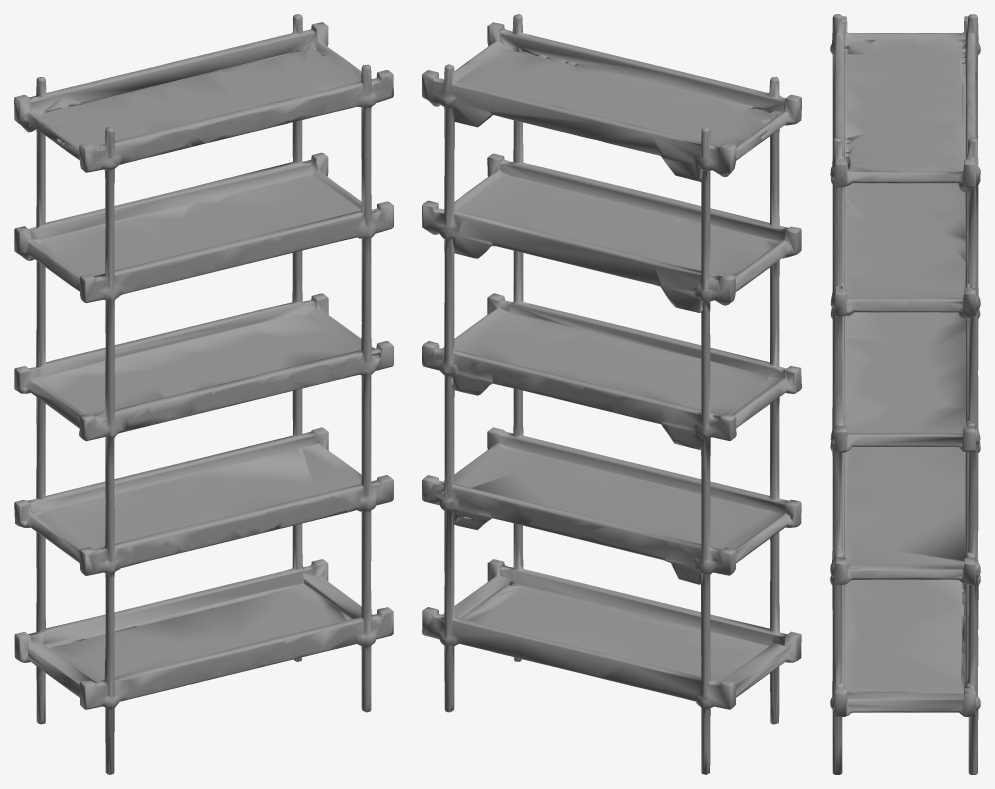
Rendered from MMZKYYsOHMSG8xAocP7At.glb.
The picture shows the model from 3 angles, left to right: view 1: azimuth 30°, elevation 25°; view 2: azimuth 150°, elevation 25°; view 3: azimuth 270°, elevation 25°; orthographic projection.
Parts seen in each view (by area): view 1: geometry_0; view 2: geometry_0; view 3: geometry_0.
Part boxes in pixels (<box>): geometry_0: <box>14,14,393,774</box>; geometry_0: <box>422,14,801,774</box>; geometry_0: <box>830,14,980,774</box>.
Bounding box in the file's own units: 0.5033 × 1 × 0.2155.
1 material, 1 textured.
